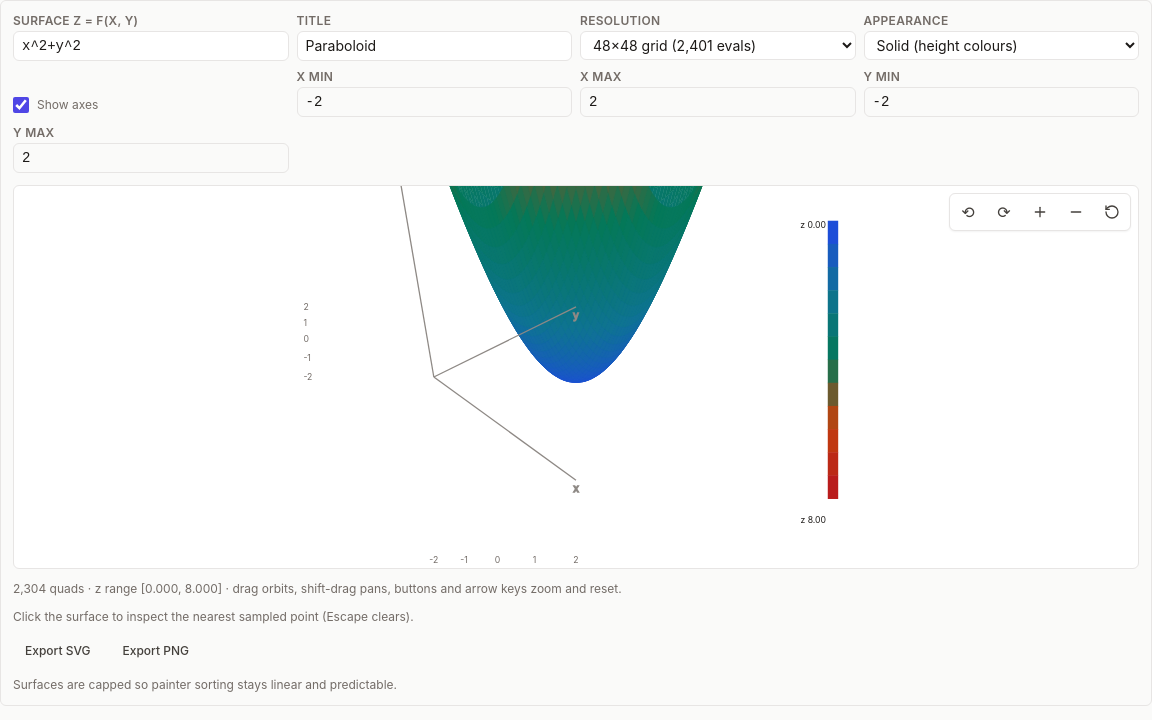
Test: 2D field view › orbits by drag, inspects by click, and orbits by keyboard
This screenshot has width=1152, height=720.
Press the mouse on the element named "3D surface viewer": coordinates (576, 377) [13, 185, 1139, 569]
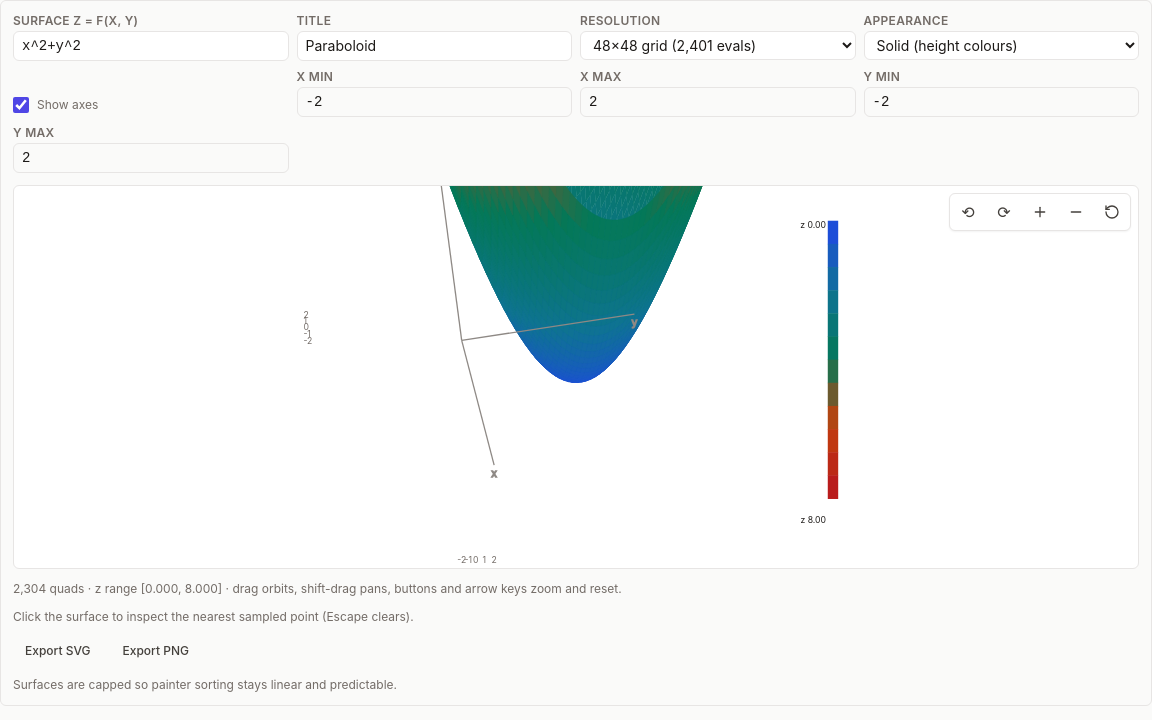
Press the mouse on the element named "3D surface viewer": coordinates (576, 377) [13, 185, 1139, 569]
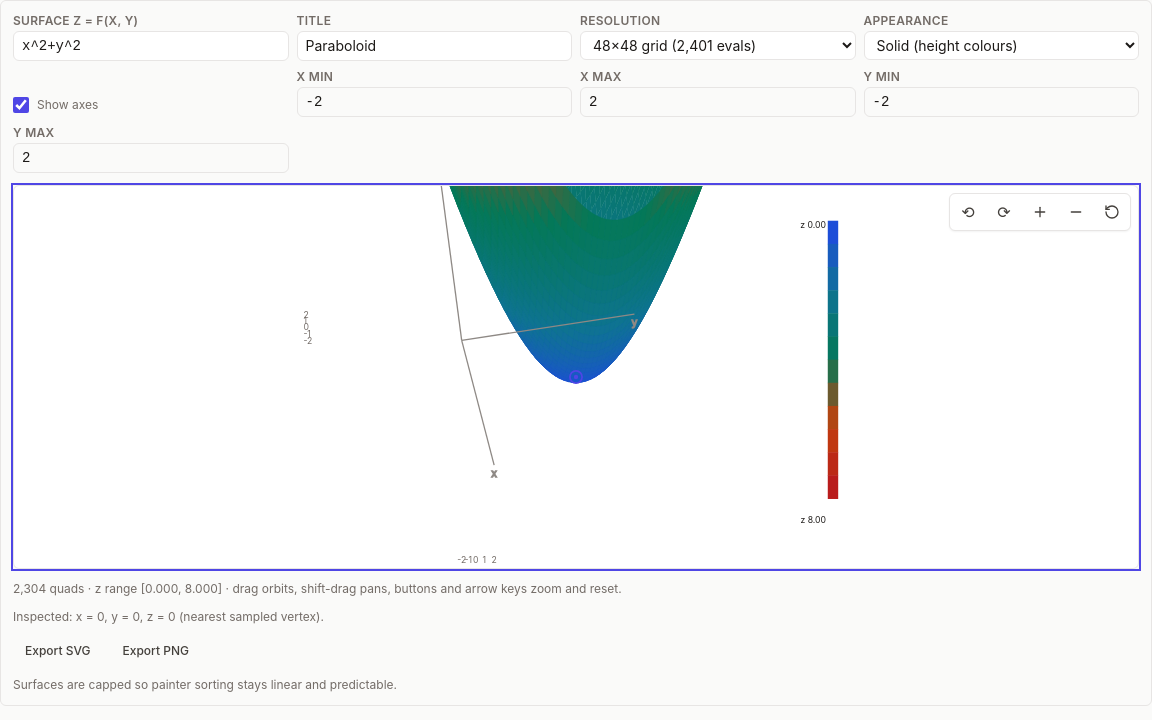
Expected: the message with test id "surface-inspection" shows "Inspected: x =", [13, 609, 324, 624]
Press Arrowright
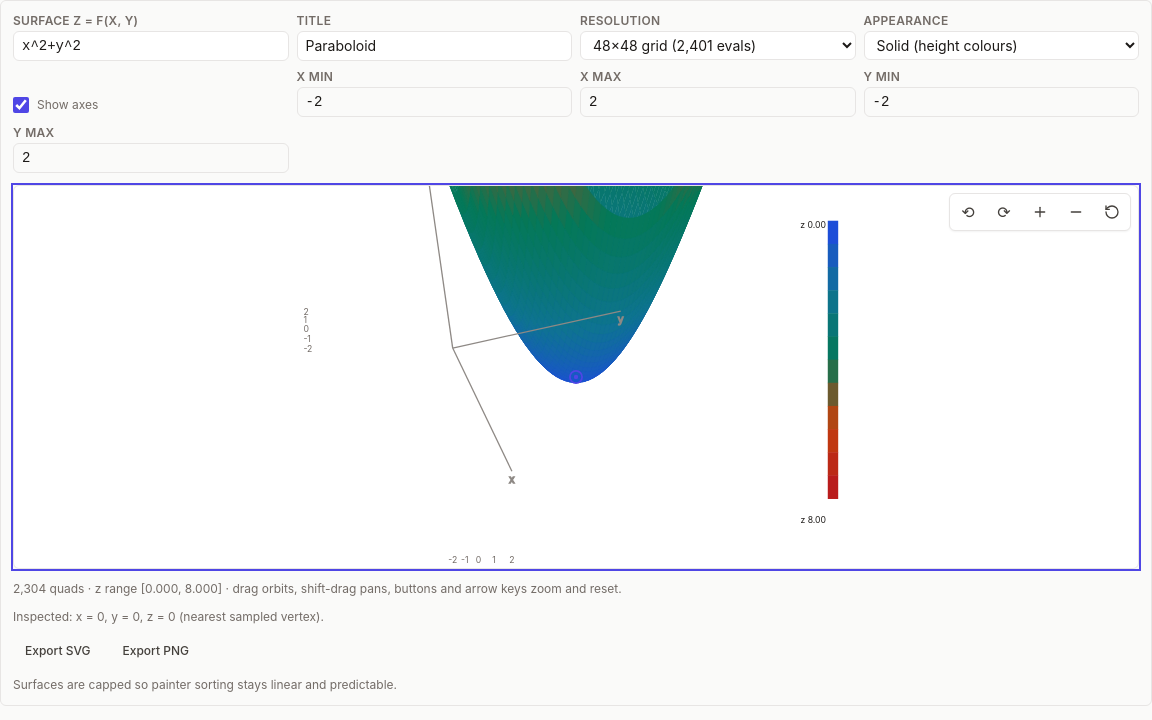
Expected: the message "Inspected: x = 0, y = 0, z = 0 (nearest sampled vertex)." is shown, [13, 609, 324, 624]
Press Escape
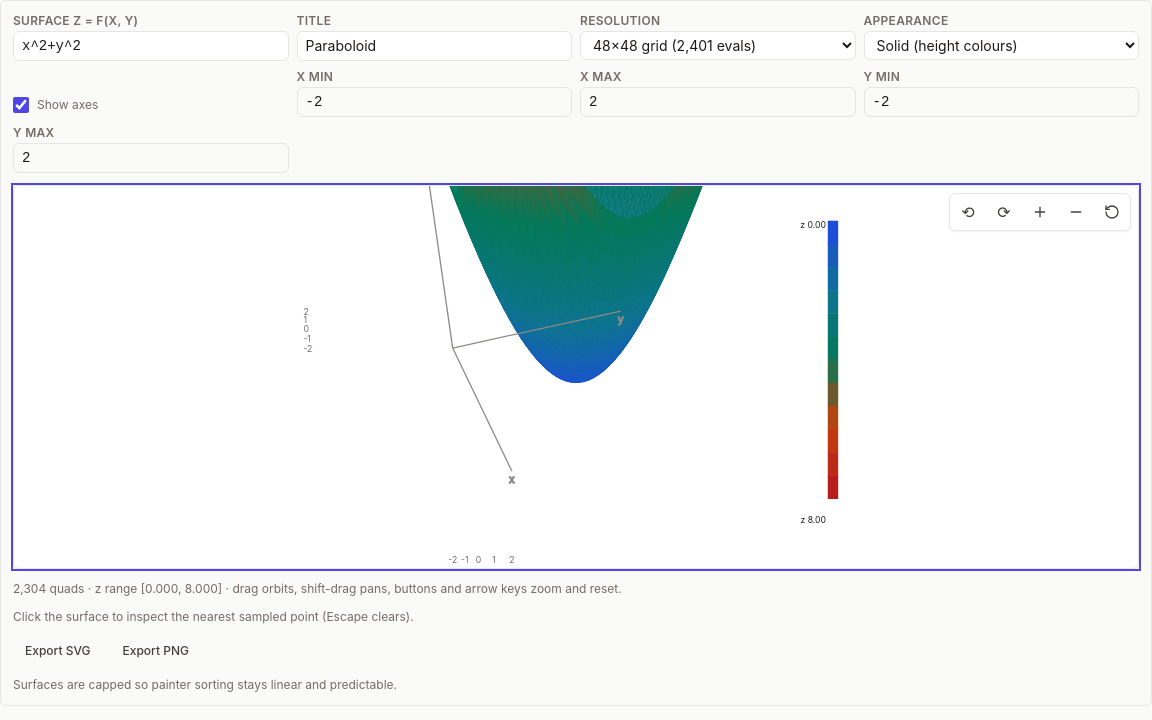
Expected: the message with test id "surface-inspection" shows "Click the surface", [13, 609, 414, 624]
